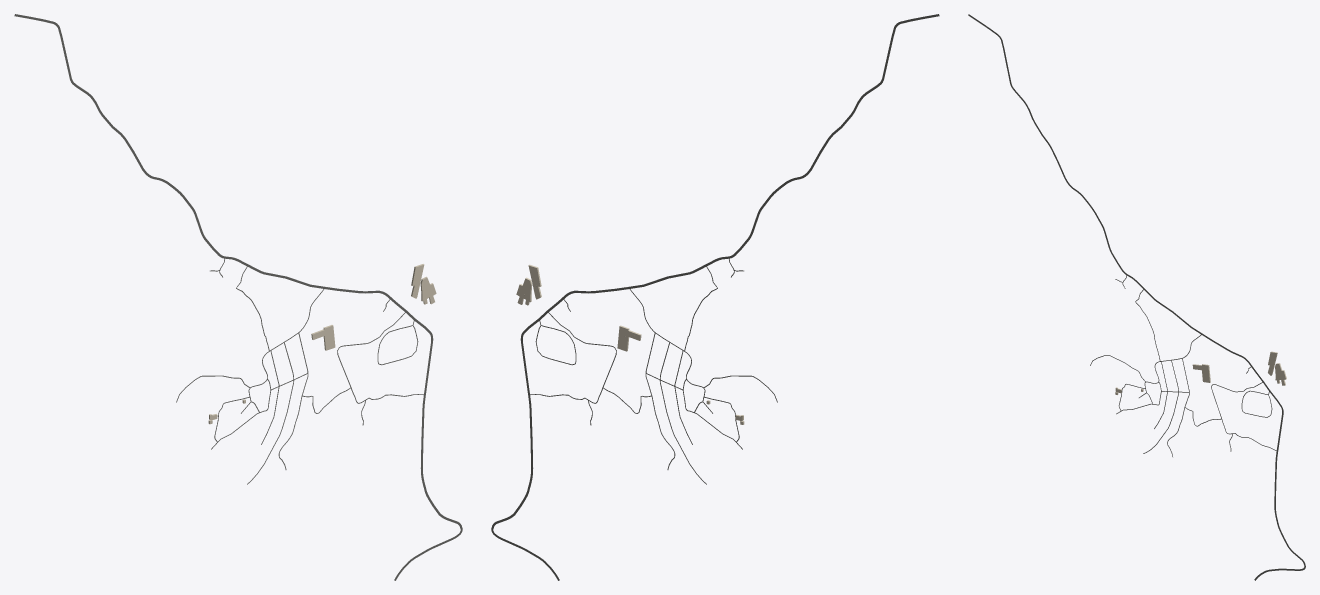
The model's file is historic-palestine-09_28_3506_3225.glb.
3 views of the same model, side by side, from view 1: azimuth 30°, elevation 25°; view 2: azimuth 150°, elevation 25°; view 3: azimuth 330°, elevation 25° (orthographic). The views are drawn at different scales.
Visible parts, largest first — view 1: Road Khirbet Jubara - kafr Jammal; view 2: Road Khirbet Jubara - kafr Jammal; view 3: Road Khirbet Jubara - kafr Jammal.
Boxes of the visible parts, x1,y1,x2,y2 form: Road Khirbet Jubara - kafr Jammal: [14, 14, 462, 580]; Road Khirbet Jubara - kafr Jammal: [491, 14, 939, 580]; Road Khirbet Jubara - kafr Jammal: [968, 14, 1305, 580].
Bounding box in the file's own units: 1729 × 2432 × 9.09.
